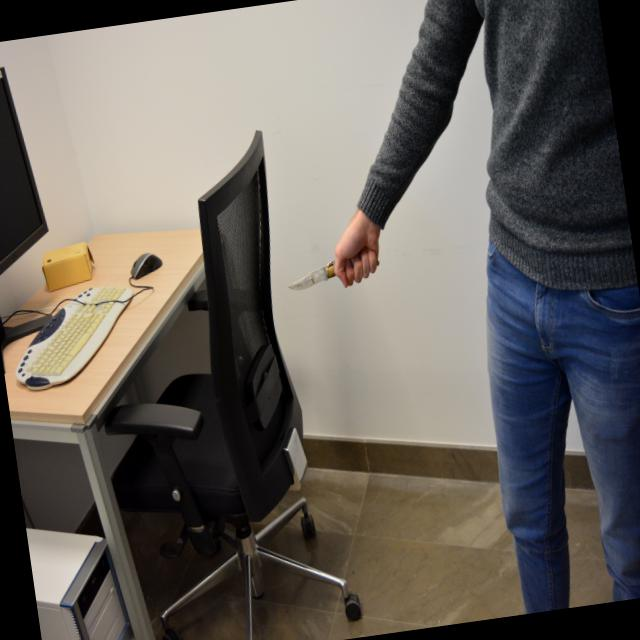knife: (280, 246, 386, 298)
